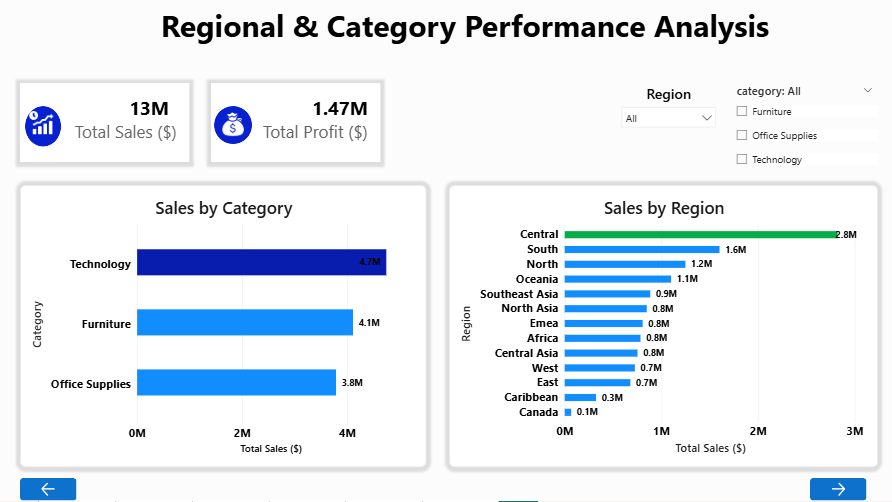

What the dashboard file says about the page in this screenshot:
{"tool":"powerbi","page":{"name":"Page 2","canvas":[1280,720],"ordinal":1},"visuals":[{"type":"barChart","title":"Sales by Region","fields":{"Category":["superstore data.region"],"Y":["date tabel calender.total sales"]},"box":[640,272,608,400],"z":0},{"type":"slicer","title":"Category","fields":{"Values":["superstore data.category"]},"box":[1512,144,312,288],"z":1000},{"type":"slicer","title":"Region","fields":{"Values":["superstore data.region"]},"box":[880,128,144,96],"z":2000},{"type":"textbox","box":[192,0,944,96],"z":3000},{"type":"textbox","box":[304,128,240,112],"z":4000},{"type":"textbox","box":[32,128,240,112],"z":5000},{"type":"group","id":"g1","title":"Group 1","box":[32,160,64,64],"z":6000},{"type":"group","id":"g2","title":"Group 3","box":[307,160,48,48],"z":7000},{"type":"barChart","title":"Sales by Category","fields":{"Category":["superstore data.category"],"Y":["date tabel calender.total sales"]},"box":[32,272,576,400],"z":8000},{"type":"slicer","fields":{"Values":["superstore data.category"]},"box":[1040,128,208,128],"z":9000},{"type":"shape","box":[307,160,54,54],"z":9500,"group":"g2"},{"type":"shape","box":[38.4,160,51.2,57.6],"z":10000,"group":"g1"},{"type":"actionButton","box":[1152,688,80,32],"z":10000},{"type":"actionButton","box":[32,688,80,32],"z":11000},{"type":"image","box":[32,167.2,64,37.8],"z":11001,"group":"g1"},{"type":"image","box":[307,169,54,36],"z":11004,"group":"g2"}]}

Visuals, with their boxes in screenshot pixels (x1, y1, x2, y2), scaled from the page's 1280x720 canvas onto the 892x502 screenshot:
"Sales by Region" barChart: l=446, t=190, r=870, b=469
"Region" slicer: l=613, t=89, r=714, b=156
textbox: l=134, t=0, r=792, b=67
textbox: l=212, t=89, r=379, b=167
textbox: l=22, t=89, r=190, b=167
"Group 1" group: l=22, t=112, r=67, b=156
"Group 3" group: l=214, t=112, r=247, b=145
"Sales by Category" barChart: l=22, t=190, r=424, b=469
slicer - superstore data.category: l=725, t=89, r=870, b=178
shape: l=214, t=112, r=252, b=149
shape: l=27, t=112, r=62, b=152
actionButton: l=803, t=480, r=859, b=501
actionButton: l=22, t=480, r=78, b=501
image: l=22, t=117, r=67, b=143
image: l=214, t=118, r=252, b=143
